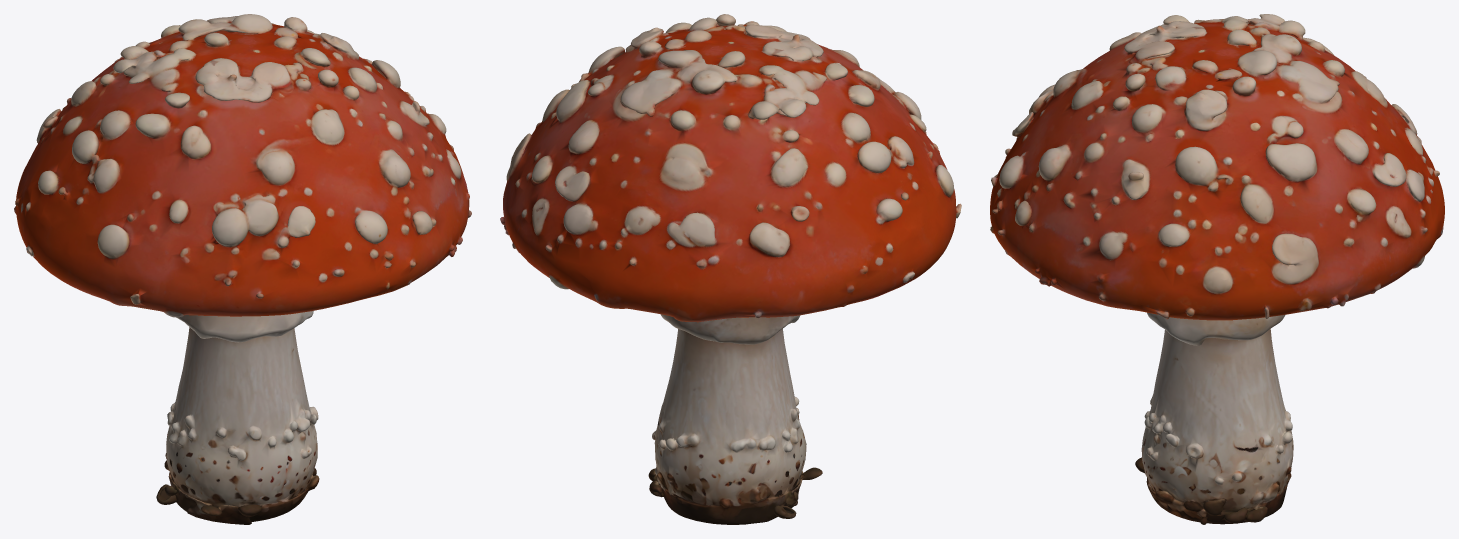
Rendered from nature-mushroom-amanita.glb.
3 renders of one model, left to right at view 1: azimuth 30°, elevation 25°; view 2: azimuth 150°, elevation 25°; view 3: azimuth 270°, elevation 25°, orthographic.
Parts seen in each view (by area): view 1: tripo_node_47eeedc9-4838-46c8-b66e-eaea8c073aa4; view 2: tripo_node_47eeedc9-4838-46c8-b66e-eaea8c073aa4; view 3: tripo_node_47eeedc9-4838-46c8-b66e-eaea8c073aa4.
Part boxes in pixels (left/top/right/bottom): tripo_node_47eeedc9-4838-46c8-b66e-eaea8c073aa4: left=14, top=14, right=471, bottom=524; tripo_node_47eeedc9-4838-46c8-b66e-eaea8c073aa4: left=500, top=14, right=961, bottom=524; tripo_node_47eeedc9-4838-46c8-b66e-eaea8c073aa4: left=990, top=14, right=1444, bottom=524.
Bounding box in the file's own units: 0.27 × 0.3 × 0.2663.
Materials: 1 (1 with a texture image).
